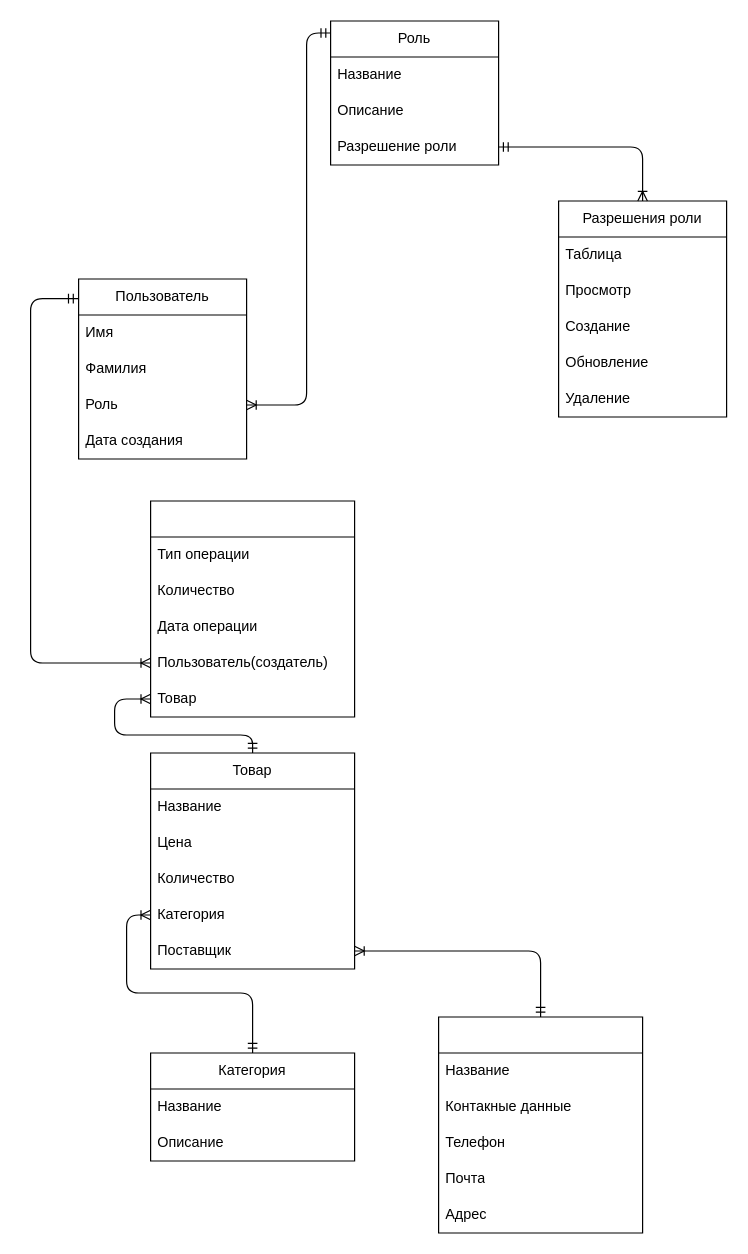
The diagram is 748 pixels wide and 1254 high, and some of its shapes have lost their labels. Here are the shapes that lost their labels. From the top down, the box of each, then its label:
(149, 500, 355, 717): Номенкулатура
(437, 1016, 643, 1233): Постащик
